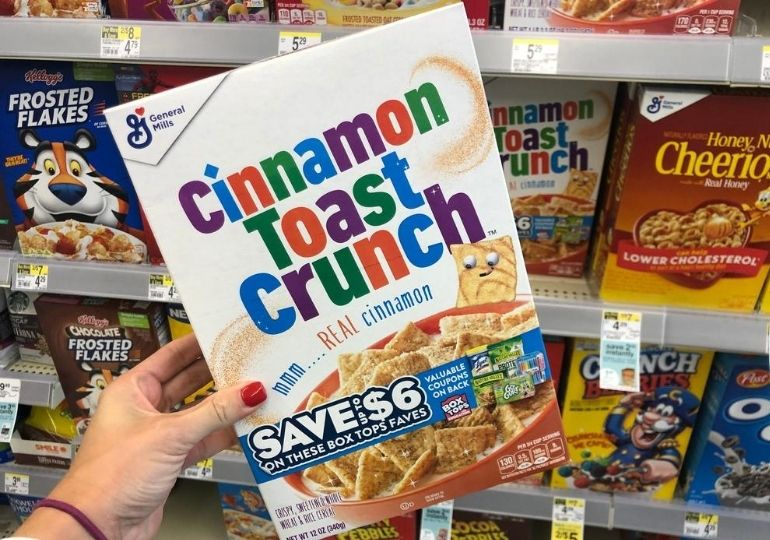cereal: (113, 47, 604, 540)
